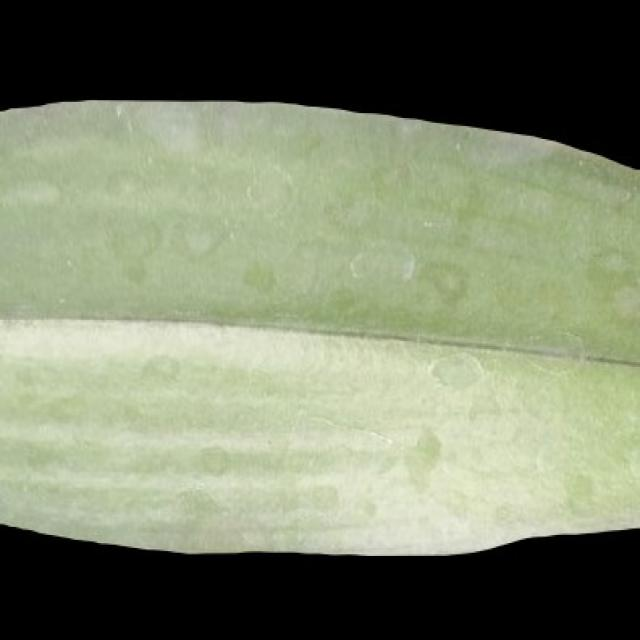mite: (118, 215, 165, 286), (427, 349, 485, 393), (422, 255, 470, 307), (239, 257, 278, 294), (411, 423, 443, 464), (197, 443, 229, 478), (121, 257, 147, 284)
spots: (0, 97, 638, 554)
